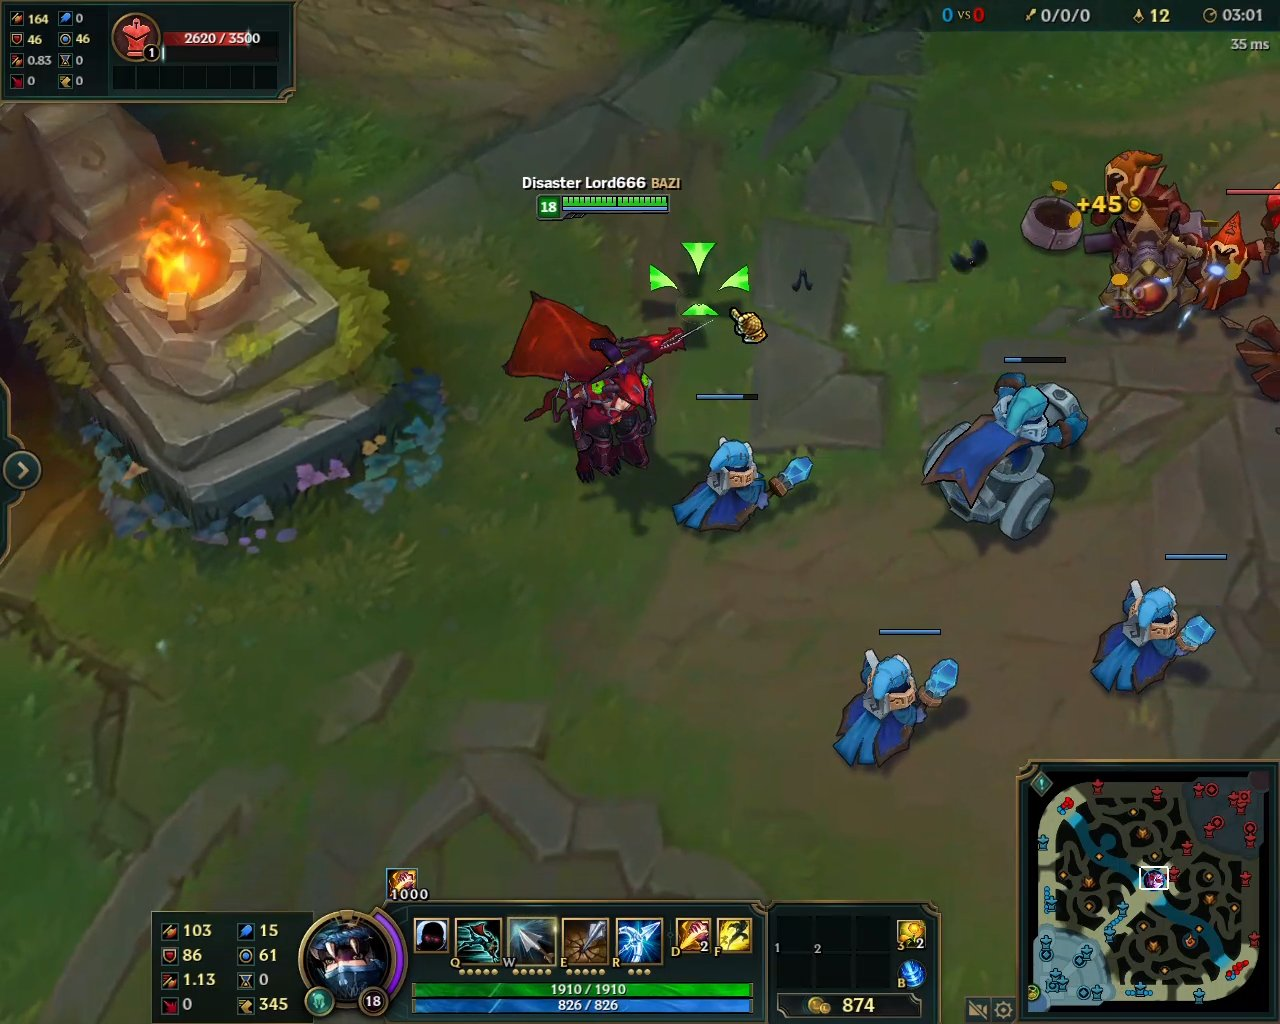Vayne: (499, 284, 712, 509)
